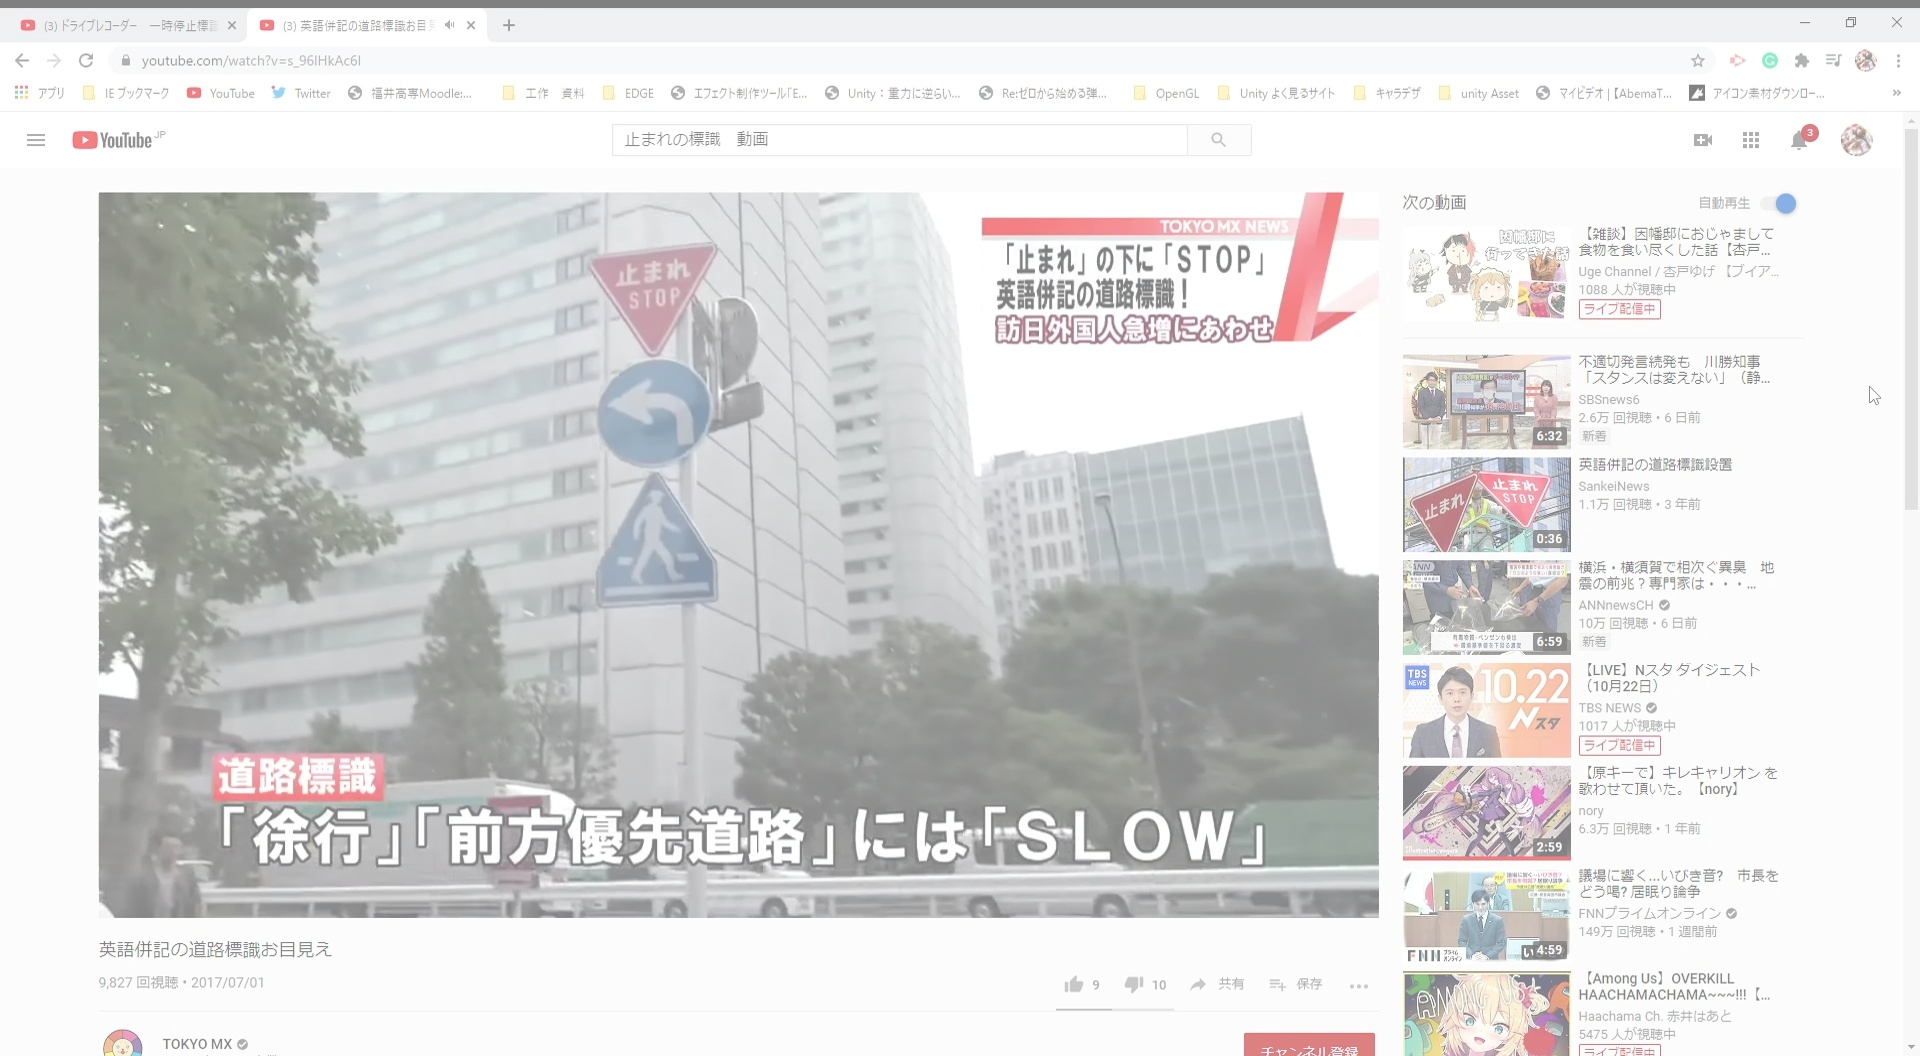Regulatory_sign_triangle: (582, 228, 733, 355)
